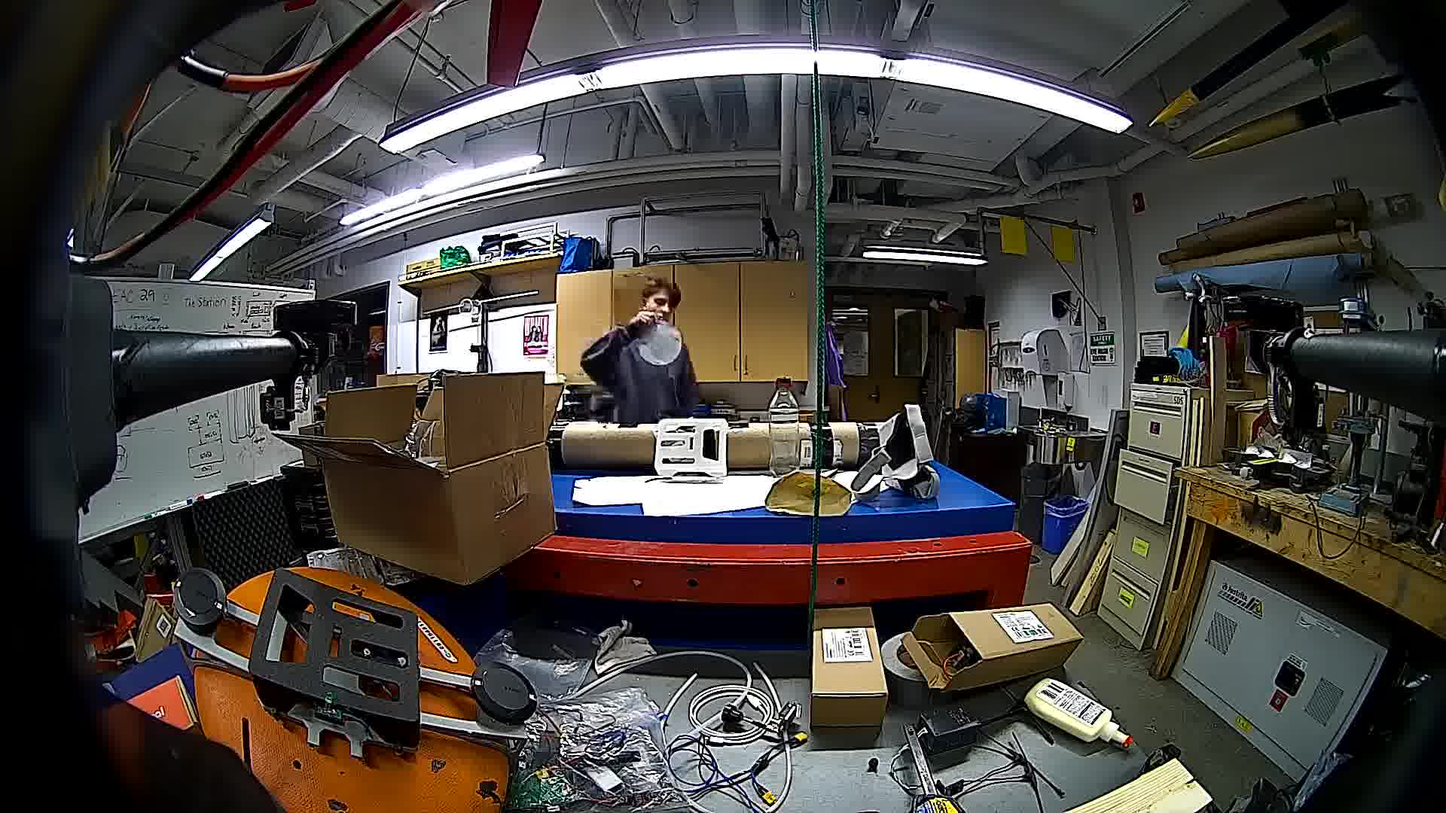Target: (635, 317, 685, 368)
